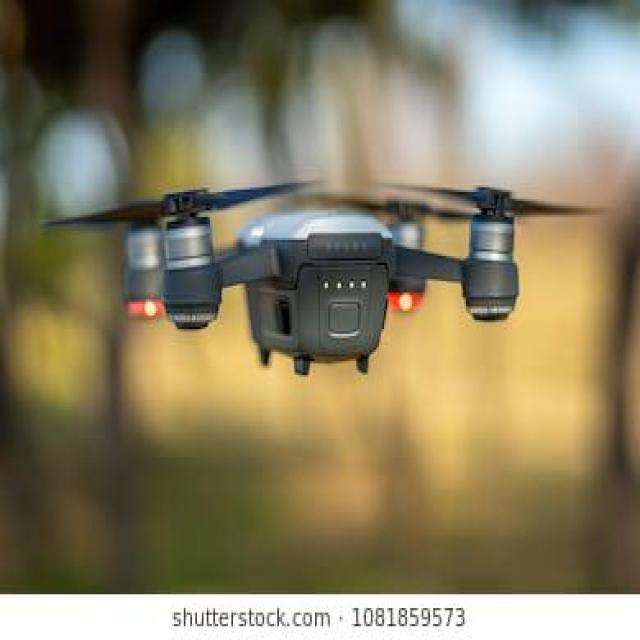drone: (100, 163, 528, 375)
